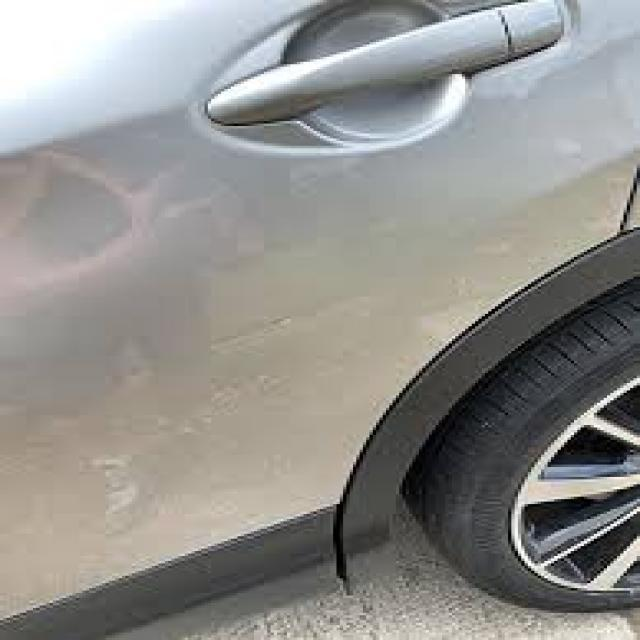dent-or-scratch: (64, 431, 154, 523)
